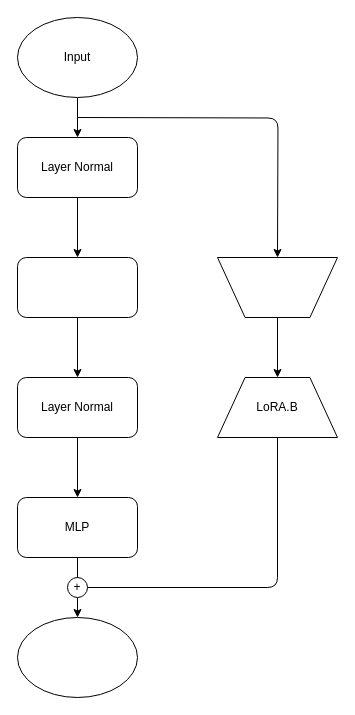
Some shapes in this 355 by 715 pixel diagram are drawn without their labels. The box of each missing label's shape, as (x1, y1, x2, y2) in pixels:
Attention: (16, 256, 138, 318)
LoRA.A: (216, 256, 338, 318)
Output: (16, 616, 138, 698)
